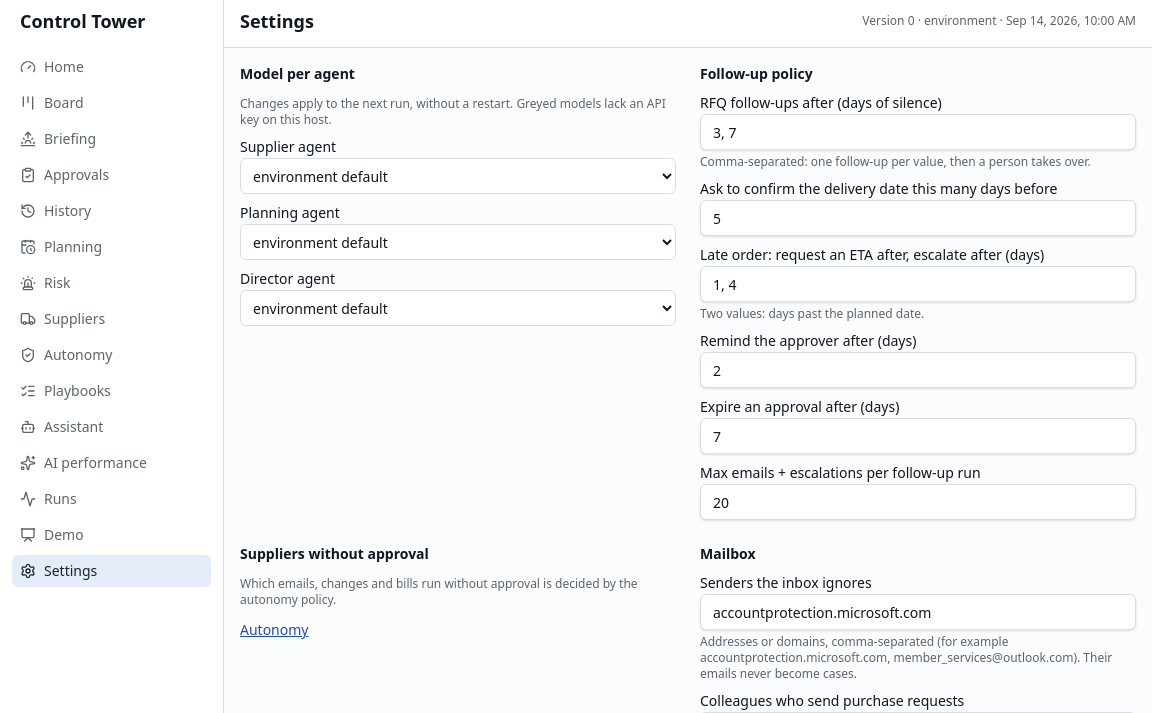
Scenario: settings and runs › lets an admin pick a model and change the policy, saved as a new version
Select "deepseek-v4-flash · deepseek · $0.14/0.28 per Mtok" in the dropdown labelled "Supplier agent" at (458, 176), box [240,158,676,194]
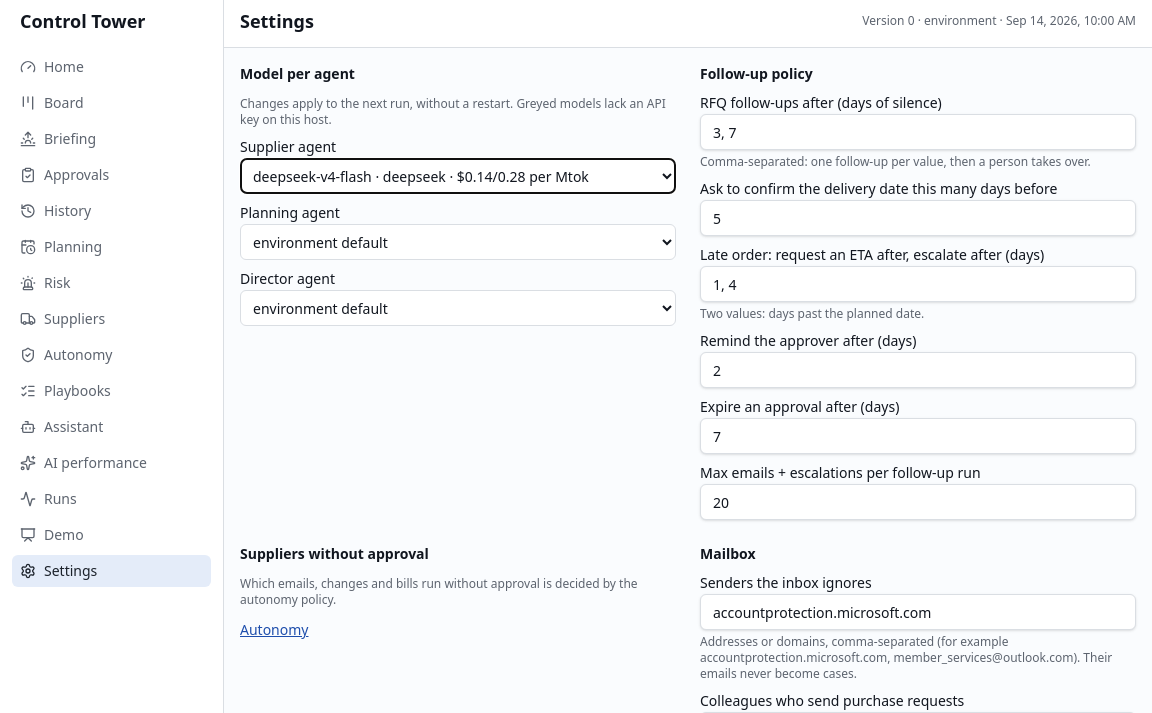
Replace the text in the field labelled "RFQ follow-ups after (days of silence)" with "2, 5" at (918, 132), box [700,114,1136,150]
(page scrolled)
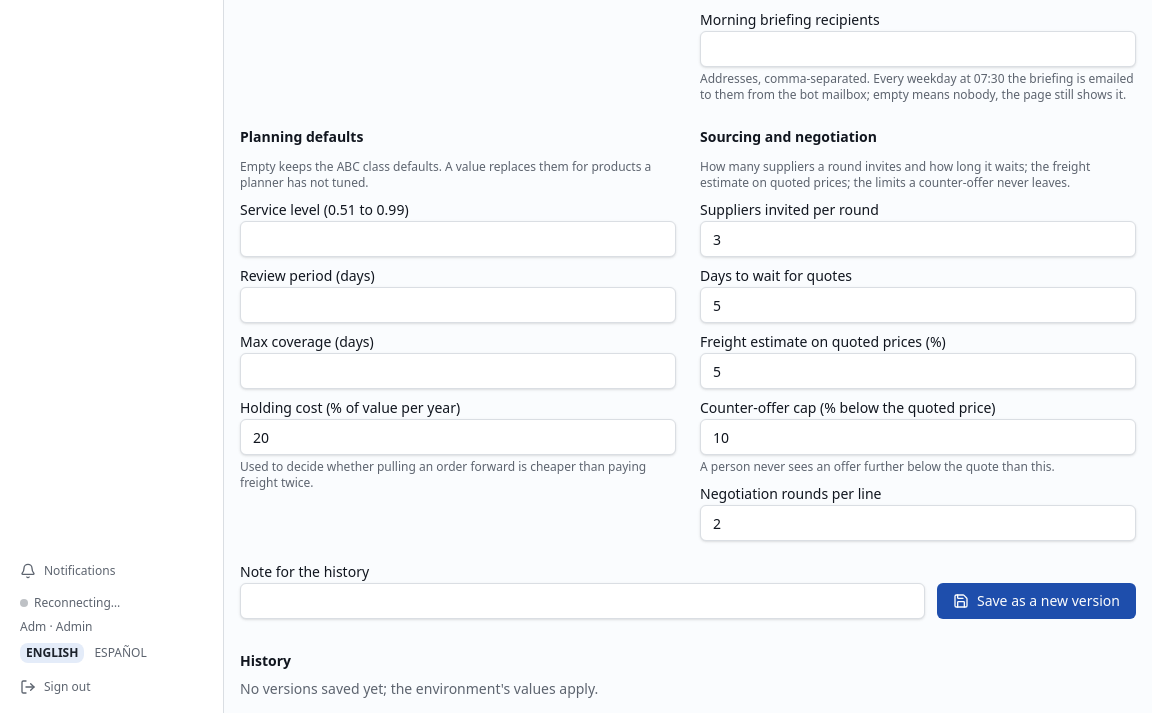
Type "faster chasing" into the field labelled "Note for the history".
click(582, 601); type("faster chasing")  # box [240,583,925,619]
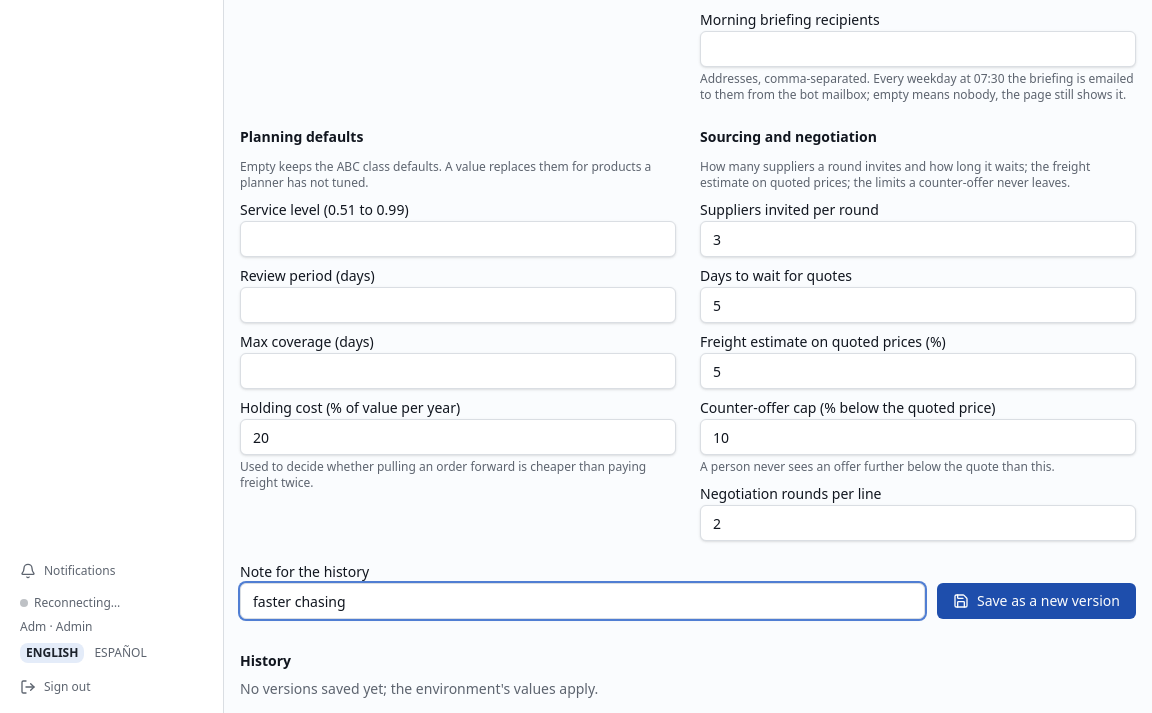
Click the button "Save as a new version".
click(1036, 601)  # box [937,583,1136,619]
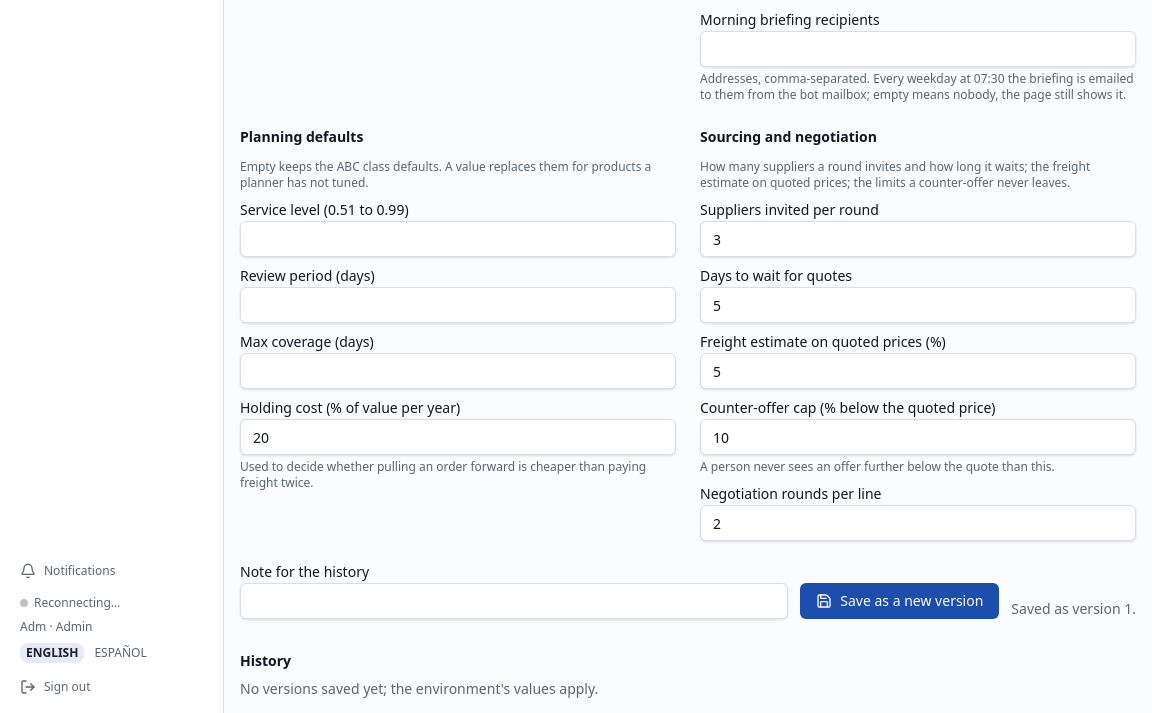
Expected: the message reads "Saved as version 1.", [1011,599,1136,618]
